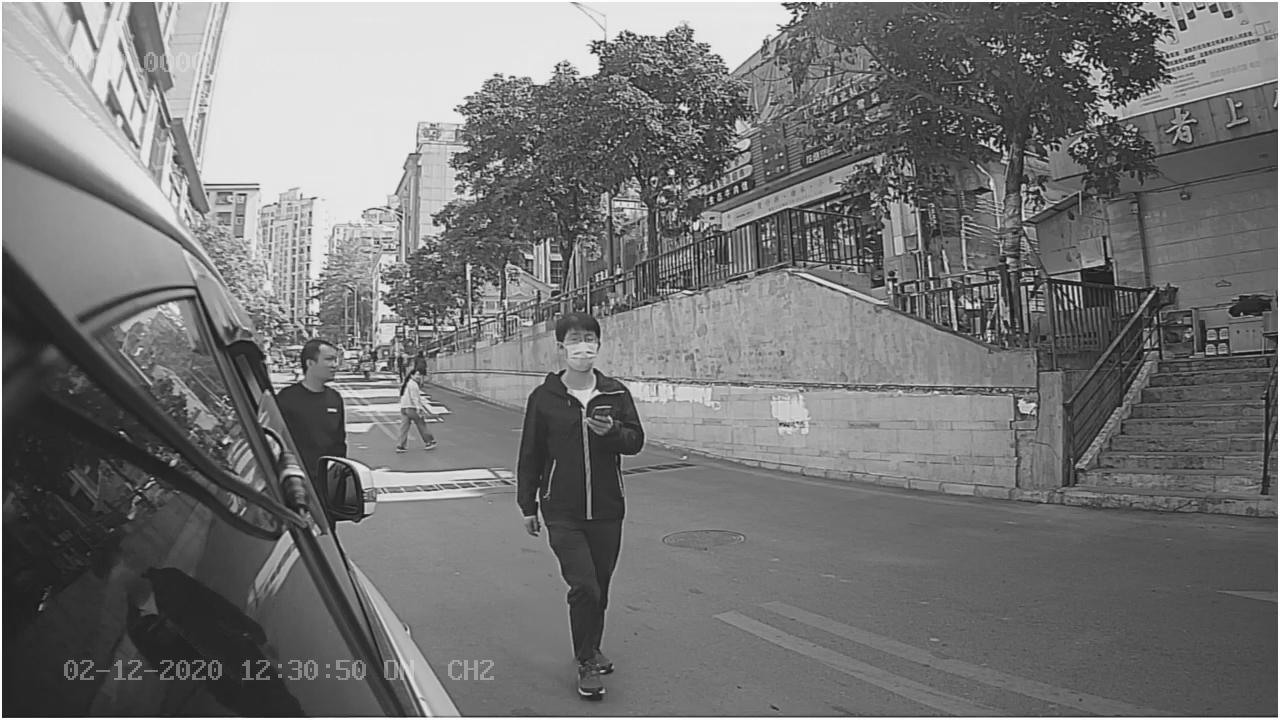person: (509, 312, 651, 697)
